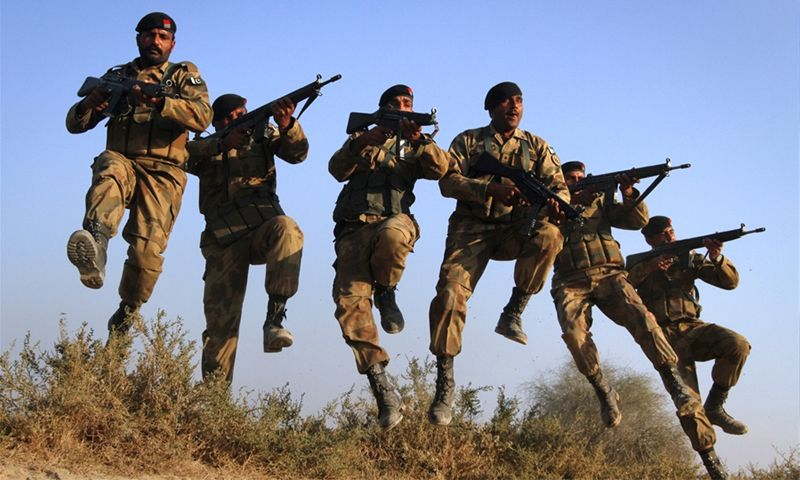uniform: (443, 67, 548, 400), (322, 70, 423, 399), (82, 23, 192, 325), (200, 71, 308, 375), (616, 209, 755, 425), (550, 149, 666, 397)
